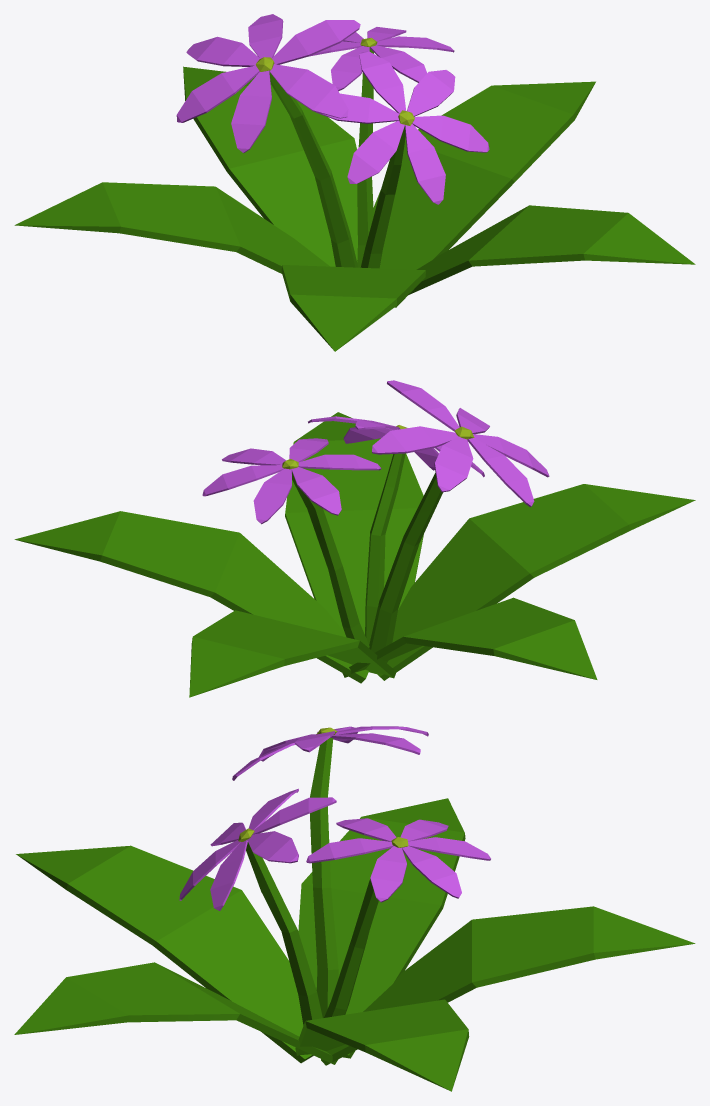
The model's file is Flower_c_b_01.fbx.
3 views of the same model, one above another, from view 1: azimuth 30°, elevation 25°; view 2: azimuth 150°, elevation 25°; view 3: azimuth 270°, elevation 25° (orthographic). The views are drawn at different scales.
Visible parts, largest first — view 1: Flower_g_b_01_LOD0; view 2: Flower_g_b_01_LOD0; view 3: Flower_g_b_01_LOD0.
Part boxes in pixels (left/top/right/bottom): Flower_g_b_01_LOD0: left=14, top=14, right=695, bottom=351; Flower_g_b_01_LOD0: left=14, top=380, right=695, bottom=697; Flower_g_b_01_LOD0: left=14, top=726, right=695, bottom=1091.
Bounding box in the file's own units: 7.16 × 7.03 × 3.41.
